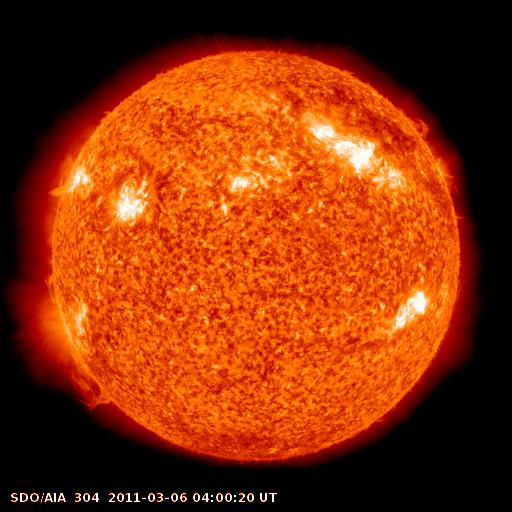prominence: (60, 360, 124, 421), (386, 93, 443, 150)
